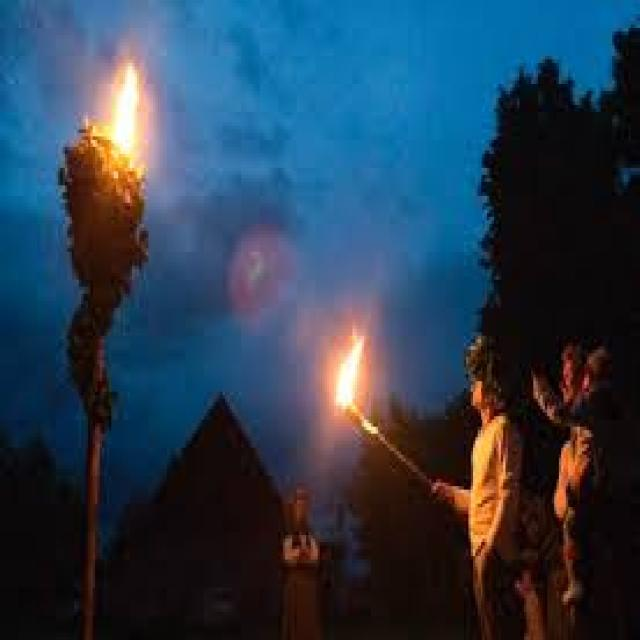fire: (88, 58, 147, 180), (334, 332, 366, 412)
